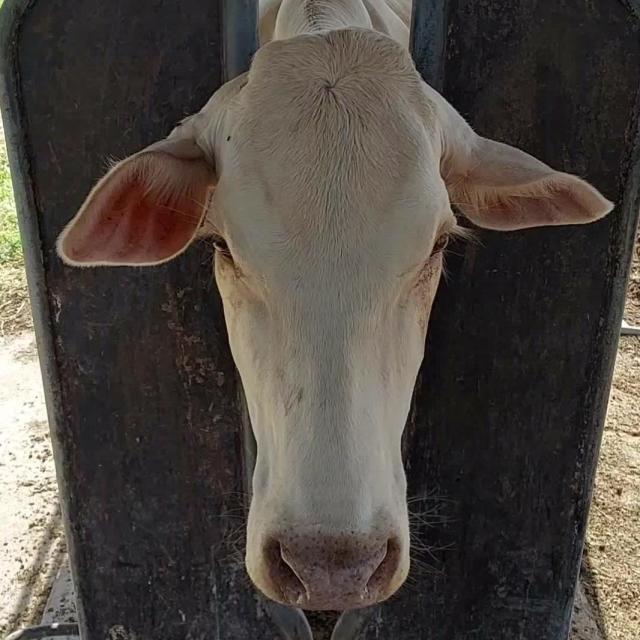cowFace: (208, 28, 453, 606)
